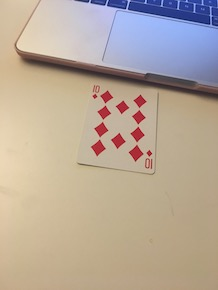TenOfDiamonds: (74, 79, 162, 176)
